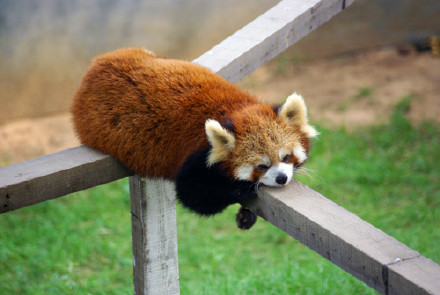raccoon: (69, 43, 322, 233)
